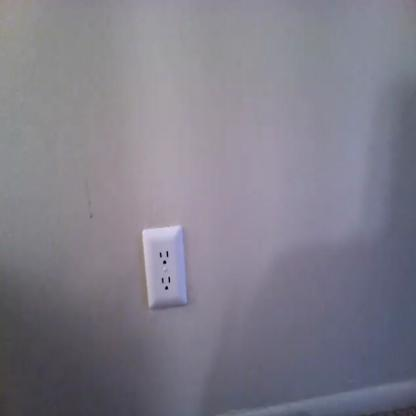OUTLET: (141, 226, 188, 306)
